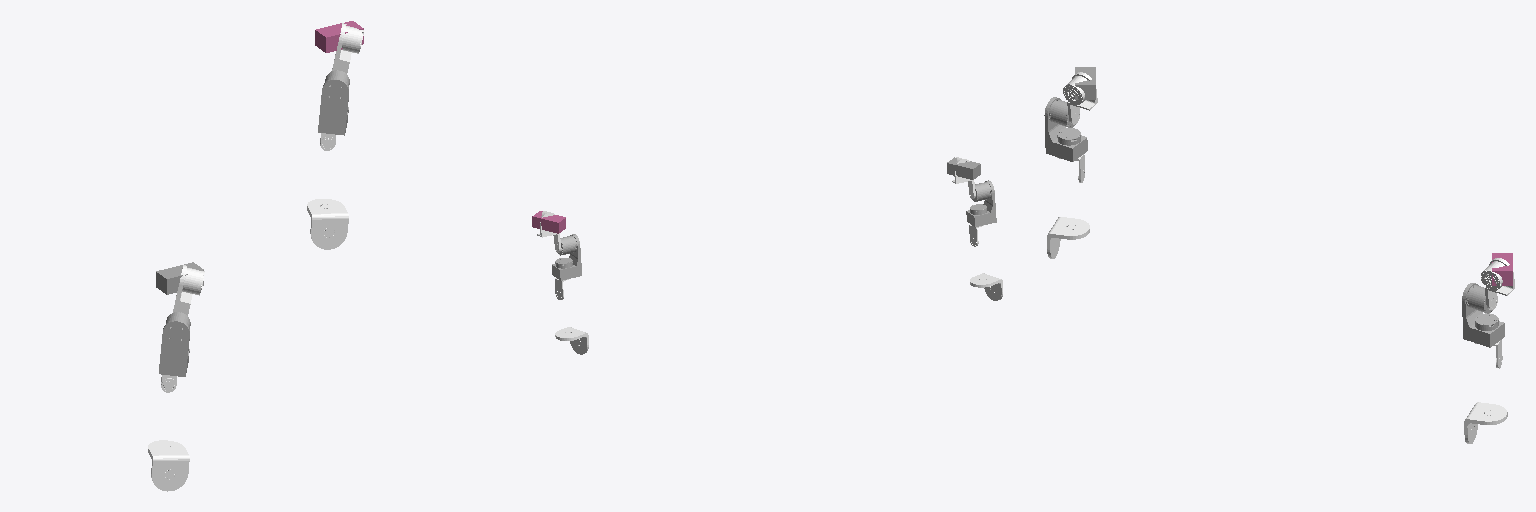
--- Facts derived from the render (not from the file) ---
Views: 3 orthographic renders of the robot side by side, from view 1: azimuth 30°, elevation 25°; view 2: azimuth 150°, elevation 25°; view 3: azimuth 270°, elevation 25°.
Robot: wanren_arm — 15 links, 14 joints (14 continuous); root link body; default pose: every joint at zero.
Links seen in each view (by area): view 1: leg_r2_link, leg_l2_link, leg_r5_link, leg_l5_link, leg_r6_link, leg_l6_link, leg_l7_link, leg_r7_link; view 2: leg_l5_link, leg_r5_link, leg_l2_link, leg_r2_link; view 3: leg_l5_link, leg_r5_link, leg_r2_link, leg_l2_link, leg_r6_link, leg_l6_link.
Link boxes in pixels (x1,y1,x2,y2): leg_r2_link: [148, 440, 189, 491]; leg_l2_link: [307, 199, 348, 249]; leg_r5_link: [159, 312, 190, 376]; leg_l5_link: [318, 70, 349, 135]; leg_r6_link: [173, 265, 204, 315]; leg_l6_link: [332, 23, 363, 73]; leg_l7_link: [315, 21, 363, 52]; leg_r7_link: [156, 262, 203, 294]; leg_l5_link: [552, 234, 581, 280]; leg_r5_link: [966, 180, 996, 226]; leg_l2_link: [555, 327, 588, 354]; leg_r2_link: [970, 273, 1002, 300]; leg_l5_link: [1462, 283, 1504, 347]; leg_r5_link: [1044, 97, 1087, 161]; leg_r2_link: [1047, 217, 1089, 258]; leg_l2_link: [1464, 402, 1507, 443]; leg_r6_link: [1063, 72, 1097, 124]; leg_l6_link: [1481, 258, 1514, 309].
Bounding box of the posed robot: 1.17 × 1.13 × 0.5471 m (x, y, z).
Meshes: 7 distinct files referenced, 8 mesh visuals loaded (4 binary STL); not drawn: 5 (reference not matched to a file when rendering).

The robot description file, URDF, robot "wanren_arm":
<?xml version="1.0" encoding="utf-8"?>
<!-- This URDF was automatically created by SolidWorks to URDF Exporter! Originally created by Stephen Brawner ([email redacted]) 
     Commit Version: 1.6.0-4-g7f85cfe  Build Version: 1.6.7995.38578
     For more information, please see http://wiki.ros.org/sw_urdf_exporter -->
<robot
  name="wanren_arm">
  <!-- Add a dummy link to handle inertia -->

  <link
    name="body">
    <inertial>
      <origin
        xyz="1.58624299813302E-05 2.01332320114156E-07 -0.0245724500252954"
        rpy="0 0 0" />
      <mass
        value="0.60016209200883" />
      <inertia
        ixx="0.00242953311427902"
        ixy="-5.25284926483854E-09"
        ixz="-1.0307989110718E-08"
        iyy="0.000676060412175399"
        iyz="-4.23866154122213E-09"
        izz="0.00270966081437587" />
    </inertial>
    <visual>
      <origin
        xyz="0 0 0"
        rpy="0 0 0" />
      <geometry>
        <mesh
          filename="package://wanren_arm/meshes/body.STL" />
      </geometry>
      <material
        name="">
        <color
          rgba="1 1 1 1" />
      </material>
    </visual>
    <collision>
      <origin
        xyz="0 0 0"
        rpy="0 0 0" />
      <geometry>
        <mesh
          filename="package://wanren_arm/meshes/body.STL" />
      </geometry>
    </collision>
  </link>
  <link
    name="leg_r1_link">
    <inertial>
      <origin
        xyz="-0.00382422792815949 -0.0123142355221975 0.0766747228132015"
        rpy="0 0 0" />
      <mass
        value="0.292899916417866" />
      <inertia
        ixx="0.000252199489311626"
        ixy="1.84502350325129E-05"
        ixz="3.06532558789357E-06"
        iyy="0.000305653266020346"
        iyz="9.64612915614931E-06"
        izz="0.000181236852257132" />
    </inertial>
    <visual>
      <origin
        xyz="0 0 0"
        rpy="0 0 0" />
      <geometry>
        <mesh
          filename="package://wanren_arm/meshes/leg_r1.STL" />
      </geometry>
      <material
        name="">
        <color
          rgba="1 1 1 1" />
      </material>
    </visual>
    <collision>
      <origin
        xyz="0 0 0"
        rpy="0 0 0" />
      <geometry>
        <mesh
          filename="package://wanren_arm/meshes/leg_r1.STL" />
      </geometry>
    </collision>
  </link>
  <joint
    name="leg_r1_joint"
    type="continuous">
    <origin
      xyz="0 0 0.011999999999999"
      rpy="0 0 0" />
    <parent
      link="body" />
    <child
      link="leg_r1_link" />
    <axis
      xyz="0 0 -1" />
  </joint>
  <link
    name="leg_r2_link">
    <inertial>
      <origin
        xyz="0.0284932164900757 0.0852314382000906 0.0233442478183801"
        rpy="0 0 0" />
      <mass
        value="0.118782011304387" />
      <inertia
        ixx="0.000148335029284927"
        ixy="-8.65175116738488E-06"
        ixz="-1.27967801985177E-05"
        iyy="0.000134918605784322"
        iyz="-4.16906433393106E-05"
        izz="0.000154509301437256" />
    </inertial>
    <visual>
      <origin
        xyz="0 0 0"
        rpy="0 0 0" />
      <geometry>
        <mesh
          filename="package://wanren_arm/meshes/leg_r2.STL" />
      </geometry>
      <material
        name="">
        <color
          rgba="1 1 1 1" />
      </material>
    </visual>
    <collision>
      <origin
        xyz="0 0 0"
        rpy="0 0 0" />
      <geometry>
        <mesh
          filename="package://wanren_arm/meshes/leg_r2.STL" />
      </geometry>
    </collision>
  </link>
  <joint
    name="leg_r2_joint"
    type="continuous">
    <origin
      xyz="-0.0136812977041495 -0.0436944371355362 0.0808116620061236"
      rpy="0 0 0" />
    <parent
      link="leg_r1_link" />
    <child
      link="leg_r2_link" />
    <axis
      xyz="0.29752487908452 0.954714065218347 0" />
  </joint>
  <link
    name="leg_r3_link">
    <inertial>
      <origin
        xyz="0.00440804925886197 -0.000927955750798931 0.0105438054247052"
        rpy="0 0 0" />
      <mass
        value="0.395227613542105" />
      <inertia
        ixx="0.000308890320718613"
        ixy="-5.97376048863321E-06"
        ixz="-4.28271122717806E-07"
        iyy="0.000290511069752979"
        iyz="-7.01321630599807E-06"
        izz="0.000217174460223541" />
    </inertial>
    <visual>
      <origin
        xyz="0 0 0"
        rpy="0 0 0" />
      <geometry>
        <mesh
          filename="package://wanren_arm/meshes/leg_r3.STL" />
      </geometry>
      <material
        name="">
        <color
          rgba="0.752941176470588 0.752941176470588 0.752941176470588 1" />
      </material>
    </visual>
    <collision>
      <origin
        xyz="0 0 0"
        rpy="0 0 0" />
      <geometry>
        <mesh
          filename="package://wanren_arm/meshes/leg_r3.STL" />
      </geometry>
    </collision>
  </link>
  <joint
    name="leg_r3_joint"
    type="continuous">
    <origin
      xyz="0.0412068272569313 0.104588881771451 0.106228185949221"
      rpy="0 0 0" />
    <parent
      link="leg_r2_link" />
    <child
      link="leg_r3_link" />
    <axis
      xyz="-0.0722349306802614 0.022511126419206 -0.997133573788866" />
  </joint>
  <link
    name="leg_r4_link">
    <inertial>
      <origin
        xyz="0.0155060558890136 0.0411774297341984 0.0346709586399187"
        rpy="0 0 0" />
      <mass
        value="0.0222841339329651" />
      <inertia
        ixx="1.84809601603307E-05"
        ixy="-7.49503824125524E-07"
        ixz="7.29303214418526E-07"
        iyy="1.42244264185631E-05"
        iyz="5.6744596945616E-06"
        izz="8.89285098125665E-06" />
    </inertial>
    <visual>
      <origin
        xyz="0 0 0"
        rpy="0 0 0" />
      <geometry>
        <mesh
          filename="package://wanren_arm/meshes/leg_r4.STL" />
      </geometry>
      <material
        name="">
        <color
          rgba="1 1 1 1" />
      </material>
    </visual>
    <collision>
      <origin
        xyz="0 0 0"
        rpy="0 0 0" />
      <geometry>
        <mesh
          filename="package://wanren_arm/meshes/leg_r4.STL" />
      </geometry>
    </collision>
  </link>
  <joint
    name="leg_r4_joint"
    type="continuous">
    <origin
      xyz="-0.00228042956033238 -0.0297792321778995 0.0833604475054363"
      rpy="0 0 0" />
    <parent
      link="leg_r3_link" />
    <child
      link="leg_r4_link" />
    <axis
      xyz="0.282983296167026 0.959124144572578 0.0011529910516605" />
  </joint>
  <link
    name="leg_r5_link">
    <inertial>
      <origin
        xyz="-0.0048559147531092 -0.0119363039004067 -0.00678188706287566"
        rpy="0 0 0" />
      <mass
        value="0.38824624930896" />
      <inertia
        ixx="0.000237526648339387"
        ixy="-5.31429070295641E-05"
        ixz="2.19325891659962E-05"
        iyy="0.000363875907133575"
        iyz="1.18765086359219E-05"
        izz="0.000378463701930693" />
    </inertial>
    <visual>
      <origin
        xyz="0 0 0"
        rpy="0 0 0" />
      <geometry>
        <mesh
          filename="package://wanren_arm/meshes/leg_r5.STL" />
      </geometry>
      <material
        name="">
        <color
          rgba="0.752941176470588 0.752941176470588 0.752941176470588 1" />
      </material>
    </visual>
    <collision>
      <origin
        xyz="0 0 0"
        rpy="0 0 0" />
      <geometry>
        <mesh
          filename="package://wanren_arm/meshes/leg_r5.STL" />
      </geometry>
    </collision>
  </link>
  <joint
    name="leg_r5_joint"
    type="continuous">
    <origin
      xyz="0.0181511434262854 0.025007599076044 0.111134888878763"
      rpy="0 1.26722046551249 0" />
    <parent
      link="leg_r4_link" />
    <child
      link="leg_r5_link" />
    <axis
      xyz="0.923719785557326 0.0273056458564005 -0.382094437900229" />
  </joint>
  <link
    name="leg_r6_link">
    <inertial>
      <origin
        xyz="0.0651691107467127 0.0806102275858783 -0.0545046281847596"
        rpy="0 0 0" />
      <mass
        value="0.174871084341935" />
      <inertia
        ixx="0.000144391761957596"
        ixy="-1.80182197600083E-05"
        ixz="1.3262109156489E-05"
        iyy="7.06944905975503E-05"
        iyz="1.59148040690902E-05"
        izz="0.000136401918690474" />
    </inertial>
    <visual>
      <origin
        xyz="0 0 0"
        rpy="0 0 0" />
      <geometry>
        <mesh
          filename="package://wanren_arm/meshes/leg_r6.STL" />
      </geometry>
      <material
        name="">
        <color
          rgba="1 1 1 1" />
      </material>
    </visual>
    <collision>
      <origin
        xyz="0 0 0"
        rpy="0 0 0" />
      <geometry>
        <mesh
          filename="package://wanren_arm/meshes/leg_r6.STL" />
      </geometry>
    </collision>
  </link>
  <joint
    name="leg_r6_joint"
    type="continuous">
    <origin
      xyz="-0.0550712045826083 -0.0332459772838745 -0.000878918231283499"
      rpy="1.5372364468678 -1.26722046551249 0" />
    <parent
      link="leg_r5_link" />
    <child
      link="leg_r6_link" />
    <axis
      xyz="0.565655964466871 0 -0.824641334073823" />
  </joint>
  <link
    name="leg_r7_link">
    <inertial>
      <origin
        xyz="0.122014637753753 -0.108460665221082 -0.0505526819127103"
        rpy="0 0 0" />
      <mass
        value="0.784412251530751" />
      <inertia
        ixx="0.00035684591190941"
        ixy="5.28938521033195E-05"
        ixz="1.61063033449861E-05"
        iyy="0.000393694186319801"
        iyz="-3.02303341596539E-06"
        izz="0.000403461621026228" />
    </inertial>
    <visual>
      <origin xyz="0 0 0" rpy="0 0 0"/>
  	<geometry>
    	<box size="0.1 0.05 0.04"/>
  	</geometry>
    </visual>
    <collision>
  	<origin xyz="0 0 0" rpy="0 0 0"/>
  	<geometry>
    	<box size="0.1 0.05 0.04"/>
  	</geometry>
    </collision>
  </link>
  <joint
    name="leg_r7_joint"
    type="continuous">
    <origin
      xyz="0.0506954674848457 0.0975609362242854 -0.0679978120533321"
      rpy="-1.5372364468678 0 0" />
    <parent
      link="leg_r6_link" />
    <child
      link="leg_r7_link" />
    <axis
      xyz="0.804819794366103 -0.559061164385712 -0.199288015375224" />
  </joint>

  <transmission name="trans_leg_r1">
  <type>transmission_interface/SimpleTransmission</type>
  <actuator name="motor_leg_r1">
    <hardwareInterface>hardware_interface/EffortJointInterface</hardwareInterface>
    <mechanicalReduction>1</mechanicalReduction>
  </actuator>
  <joint name="leg_r1_joint">
    <hardwareInterface>hardware_interface/EffortJointInterface</hardwareInterface>
  </joint>
  </transmission>

  <transmission name="trans_leg_r2">
  <type>transmission_interface/SimpleTransmission</type>
  <actuator name="motor_leg_r2">
    <hardwareInterface>hardware_interface/EffortJointInterface</hardwareInterface>
    <mechanicalReduction>1</mechanicalReduction>
  </actuator>
  <joint name="leg_r2_joint">
    <hardwareInterface>hardware_interface/EffortJointInterface</hardwareInterface>
  </joint>
  </transmission>

  <transmission name="trans_leg_r3">
  <type>transmission_interface/SimpleTransmission</type>
  <actuator name="motor_leg_r3">
    <hardwareInterface>hardware_interface/EffortJointInterface</hardwareInterface>
    <mechanicalReduction>1</mechanicalReduction>
  </actuator>
  <joint name="leg_r3_joint">
    <hardwareInterface>hardware_interface/EffortJointInterface</hardwareInterface>
  </joint>
  </transmission>

  <transmission name="trans_leg_r4">
  <type>transmission_interface/SimpleTransmission</type>
  <actuator name="motor_leg_r4">
    <hardwareInterface>hardware_interface/EffortJointInterface</hardwareInterface>
    <mechanicalReduction>1</mechanicalReduction>
  </actuator>
  <joint name="leg_r4_joint">
    <hardwareInterface>hardware_interface/EffortJointInterface</hardwareInterface>
  </joint>
  </transmission>

  <transmission name="trans_leg_r5">
  <type>transmission_interface/SimpleTransmission</type>
  <actuator name="motor_leg_r5">
    <hardwareInterface>hardware_interface/EffortJointInterface</hardwareInterface>
    <mechanicalReduction>1</mechanicalReduction>
  </actuator>
  <joint name="leg_r5_joint">
    <hardwareInterface>hardware_interface/EffortJointInterface</hardwareInterface>
  </joint>
  </transmission>

  <transmission name="trans_leg_r6">
  <type>transmission_interface/SimpleTransmission</type>
  <actuator name="motor_leg_r6">
    <hardwareInterface>hardware_interface/EffortJointInterface</hardwareInterface>
    <mechanicalReduction>1</mechanicalReduction>
  </actuator>
  <joint name="leg_r6_joint">
    <hardwareInterface>hardware_interface/EffortJointInterface</hardwareInterface>
  </joint>
  </transmission>

  <transmission name="trans_leg_r7">
  <type>transmission_interface/SimpleTransmission</type>
  <actuator name="motor_leg_r7">
    <hardwareInterface>hardware_interface/EffortJointInterface</hardwareInterface>
    <mechanicalReduction>1</mechanicalReduction>
  </actuator>
  <joint name="leg_r7_joint">
    <hardwareInterface>hardware_interface/EffortJointInterface</hardwareInterface>
  </joint>
  </transmission>
  <link
    name="leg_l1_link">
    <inertial>
      <origin
        xyz="-0.00382422792815949 -0.0123142355221975 0.0766747228132015"
        rpy="0 0 0" />
      <mass
        value="0.292899916417866" />
      <inertia
        ixx="0.000252199489311626"
        ixy="1.84502350325129E-05"
        ixz="3.06532558789357E-06"
        iyy="0.000305653266020346"
        iyz="9.64612915614931E-06"
        izz="0.000181236852257132" />
    </inertial>
    <visual>
      <origin
        xyz="0 0 0"
        rpy="0 0 0" />
      <geometry>
        <mesh
          filename="package://wanren_arm/meshes/leg_r1.STL" />
      </geometry>
      <material
        name="">
        <color
          rgba="1 1 1 1" />
      </material>
    </visual>
    <collision>
      <origin
        xyz="0 0 0"
        rpy="0 0 0" />
      <geometry>
        <mesh
          filename="package://wanren_arm/meshes/leg_r1.STL" />
      </geometry>
    </collision>
  </link>
  <joint
    name="leg_l1_joint"
    type="continuous">
    <origin
      xyz="1 1 -0.011999999999999"
      rpy="0 0 0" />
    <parent
      link="body" />
    <child
      link="leg_l1_link" />
    <axis
      xyz="0 0 -1" />
  </joint>
  <link
    name="leg_l2_link">
    <inertial>
      <origin
        xyz="0.0284932164900757 0.0852314382000906 0.0233442478183801"
        rpy="0 0 0" />
      <mass
        value="0.118782011304387" />
      <inertia
        ixx="0.000148335029284927"
        ixy="-8.65175116738488E-06"
        ixz="-1.27967801985177E-05"
        iyy="0.000134918605784322"
        iyz="-4.16906433393106E-05"
        izz="0.000154509301437256" />
    </inertial>
    <visual>
      <origin
        xyz="0 0 0"
        rpy="0 0 0" />
      <geometry>
        <mesh
          filename="package://wanren_arm/meshes/leg_r2.STL" />
      </geometry>
      <material
        name="">
        <color
          rgba="1 1 1 1" />
      </material>
    </visual>
    <collision>
      <origin
        xyz="0 0 0"
        rpy="0 0 0" />
      <geometry>
        <mesh
          filename="package://wanren_arm/meshes/leg_r2.STL" />
      </geometry>
    </collision>
  </link>
  <joint
    name="leg_l2_joint"
    type="continuous">
    <origin
      xyz="-0.0136812977041495 -0.0436944371355362 0.0808116620061236"
      rpy="0 0 0" />
    <parent
      link="leg_l1_link" />
    <child
      link="leg_l2_link" />
    <axis
      xyz="0.29752487908452 0.954714065218347 0" />
  </joint>
  <link
    name="leg_l3_link">
    <inertial>
      <origin
        xyz="0.00440804925886197 -0.000927955750798931 0.0105438054247052"
        rpy="0 0 0" />
      <mass
        value="0.395227613542105" />
      <inertia
        ixx="0.000308890320718613"
        ixy="-5.97376048863321E-06"
        ixz="-4.28271122717806E-07"
        iyy="0.000290511069752979"
        iyz="-7.01321630599807E-06"
        izz="0.000217174460223541" />
    </inertial>
    <visual>
      <origin
        xyz="0 0 0"
        rpy="0 0 0" />
      <geometry>
        <mesh
          filename="package://wanren_arm/meshes/leg_r3.STL" />
      </geometry>
      <material
        name="">
        <color
          rgba="0.752941176470588 0.752941176470588 0.752941176470588 1" />
      </material>
    </visual>
    <collision>
      <origin
        xyz="0 0 0"
        rpy="0 0 0" />
      <geometry>
        <mesh
          filename="package://wanren_arm/meshes/leg_r3.STL" />
      </geometry>
    </collision>
  </link>
  <joint
    name="leg_l3_joint"
    type="continuous">
    <origin
      xyz="0.0412068272569313 0.104588881771451 0.106228185949221"
      rpy="0 0 0" />
    <parent
      link="leg_l2_link" />
    <child
      link="leg_l3_link" />
    <axis
      xyz="-0.0722349306802614 0.022511126419206 -0.997133573788866" />
  </joint>
  <link
    name="leg_l4_link">
    <inertial>
      <origin
        xyz="0.0155060558890136 0.0411774297341984 0.0346709586399187"
        rpy="0 0 0" />
      <mass
        value="0.0222841339329651" />
      <inertia
        ixx="1.84809601603307E-05"
        ixy="-7.49503824125524E-07"
        ixz="7.29303214418526E-07"
        iyy="1.42244264185631E-05"
        iyz="5.6744596945616E-06"
        izz="8.89285098125665E-06" />
    </inertial>
    <visual>
      <origin
        xyz="0 0 0"
        rpy="0 0 0" />
      <geometry>
        <mesh
          filename="package://wanren_arm/meshes/leg_r4.STL" />
      </geometry>
      <material
        name="">
        <color
          rgba="1 1 1 1" />
      </material>
    </visual>
    <collision>
      <origin
        xyz="0 0 0"
        rpy="0 0 0" />
      <geometry>
        <mesh
          filename="package://wanren_arm/meshes/leg_r4.STL" />
      </geometry>
    </collision>
  </link>
  <joint
    name="leg_l4_joint"
    type="continuous">
    <origin
      xyz="-0.00228042956033238 -0.0297792321778995 0.0833604475054363"
      rpy="0 0 0" />
    <parent
      link="leg_l3_link" />
    <child
      link="leg_l4_link" />
    <axis
      xyz="0.282983296167026 0.959124144572578 0.0011529910516605" />
  </joint>
  <link
    name="leg_l5_link">
    <inertial>
      <origin
        xyz="-0.0048559147531092 -0.0119363039004067 -0.00678188706287566"
        rpy="0 0 0" />
      <mass
        value="0.38824624930896" />
      <inertia
        ixx="0.000237526648339387"
        ixy="-5.31429070295641E-05"
        ixz="2.19325891659962E-05"
        iyy="0.000363875907133575"
        iyz="1.18765086359219E-05"
        izz="0.000378463701930693" />
    </inertial>
    <visual>
      <origin
        xyz="0 0 0"
        rpy="0 0 0" />
      <geometry>
        <mesh
          filename="package://wanren_arm/meshes/leg_r5.STL" />
      </geometry>
      <material
        name="">
        <color
          rgba="0.752941176470588 0.752941176470588 0.752941176470588 1" />
      </material>
    </visual>
    <collision>
      <origin
        xyz="0 0 0"
        rpy="0 0 0" />
      <geometry>
        <mesh
          filename="package://wanren_arm/meshes/leg_r5.STL" />
      </geometry>
    </collision>
  </link>
  <joint
    name="leg_l5_joint"
    type="continuous">
    <origin
      xyz="0.0181511434262854 0.025007599076044 0.111134888878763"
      rpy="0 1.26722046551249 0" />
    <parent
      link="leg_l4_link" />
    <child
      link="leg_l5_link" />
    <axis
      xyz="0.923719785557326 0.0273056458564005 -0.382094437900229" />
  </joint>
  <link
    name="leg_l6_link">
    <inertial>
      <origin
        xyz="0.0651691107467127 0.0806102275858783 -0.0545046281847596"
        rpy="0 0 0" />
      <mass
        value="0.174871084341935" />
      <inertia
        ixx="0.000144391761957596"
        ixy="-1.80182197600083E-05"
        ixz="1.3262109156489E-05"
        iyy="7.06944905975503E-05"
        iyz="1.59148040690902E-05"
        izz="0.000136401918690474" />
    </inertial>
    <visual>
      <origin
        xyz="0 0 0"
        rpy="0 0 0" />
      <geometry>
        <mesh
          filename="package://wanren_arm/meshes/leg_r6.STL" />
      </geometry>
      <material
        name="">
        <color
          rgba="1 1 1 1" />
      </material>
    </visual>
    <collision>
      <origin
        xyz="0 0 0"
        rpy="0 0 0" />
      <geometry>
        <mesh
          filename="package://wanren_arm/meshes/leg_r6.STL" />
      </geometry>
    </collision>
  </link>
  <joint
    name="leg_l6_joint"
    type="continuous">
    <origin
      xyz="-0.0550712045826083 -0.0332459772838745 -0.000878918231283499"
      rpy="1.5372364468678 -1.26722046551249 0" />
    <parent
      link="leg_l5_link" />
    <child
      link="leg_l6_link" />
    <axis
      xyz="0.565655964466871 0 -0.824641334073823" />
  </joint>
  <link
    name="leg_l7_link">
    <inertial>
      <origin
        xyz="0.122014637753753 -0.108460665221082 -0.0505526819127103"
        rpy="0 0 0" />
      <mass
        value="0.784412251530751" />
      <inertia
        ixx="0.00035684591190941"
        ixy="5.28938521033195E-05"
        ixz="1.61063033449861E-05"
        iyy="0.000393694186319801"
        iyz="-3.02303341596539E-06"
        izz="0.000403461621026228" />
    </inertial>
    <visual>
      <origin xyz="0 0 0" rpy="0 0 0"/>
  	<geometry>
    	<box size="0.1 0.05 0.04"/>
  	</geometry>
    </visual>
    <collision>
  	<origin xyz="0 0 0" rpy="0 0 0"/>
  	<geometry>
    	<box size="0.1 0.05 0.04"/>
  	</geometry>
    </collision>
  </link>
  <joint
    name="leg_l7_joint"
    type="continuous">
    <origin
      xyz="0.0506954674848457 0.0975609362242854 -0.0679978120533321"
      rpy="-1.5372364468678 0 0" />
    <parent
      link="leg_l6_link" />
    <child
      link="leg_l7_link" />
    <axis
      xyz="0.804819794366103 -0.559061164385712 -0.199288015375224" />
  </joint>

  <transmission name="trans_leg_l1">
  <type>transmission_interface/SimpleTransmission</type>
  <actuator name="motor_leg_l1">
    <hardwareInterface>hardware_interface/EffortJointInterface</hardwareInterface>
    <mechanicalReduction>1</mechanicalReduction>
  </actuator>
  <joint name="leg_l1_joint">
    <hardwareInterface>hardware_interface/EffortJointInterface</hardwareInterface>
  </joint>
  </transmission>

  <transmission name="trans_leg_l2">
  <type>transmission_interface/SimpleTransmission</type>
  <actuator name="motor_leg_l2">
    <hardwareInterface>hardware_interface/EffortJointInterface</hardwareInterface>
    <mechanicalReduction>1</mechanicalReduction>
  </actuator>
  <joint name="leg_l2_joint">
    <hardwareInterface>hardware_interface/EffortJointInterface</hardwareInterface>
  </joint>
  </transmission>

  <transmission name="trans_leg_l3">
  <type>transmission_interface/SimpleTransmission</type>
  <actuator name="motor_leg_l3">
    <hardwareInterface>hardware_interface/EffortJointInterface</hardwareInterface>
    <mechanicalReduction>1</mechanicalReduction>
  </actuator>
  <joint name="leg_l3_joint">
    <hardwareInterface>hardware_interface/EffortJointInterface</hardwareInterface>
  </joint>
  </transmission>

  <transmission name="trans_leg_l4">
  <type>transmission_interface/SimpleTransmission</type>
  <actuator name="motor_leg_l4">
    <hardwareInterface>hardware_interface/EffortJointInterface</hardwareInterface>
    <mechanicalReduction>1</mechanicalReduction>
  </actuator>
  <joint name="leg_l4_joint">
    <hardwareInterface>hardware_interface/EffortJointInterface</hardwareInterface>
  </joint>
  </transmission>

  <transmission name="trans_leg_l5">
  <type>transmission_interface/SimpleTransmission</type>
  <actuator name="motor_leg_l5">
    <hardwareInterface>hardware_interface/EffortJointInterface</hardwareInterface>
    <mechanicalReduction>1</mechanicalReduction>
  </actuator>
  <joint name="leg_l5_joint">
    <hardwareInterface>hardware_interface/EffortJointInterface</hardwareInterface>
  </joint>
  </transmission>

  <transmission name="trans_leg_l6">
  <type>transmission_interface/SimpleTransmission</type>
  <actuator name="motor_leg_l6">
    <hardwareInterface>hardware_interface/EffortJointInterface</hardwareInterface>
    <mechanicalReduction>1</mechanicalReduction>
  </actuator>
  <joint name="leg_l6_joint">
    <hardwareInterface>hardware_interface/EffortJointInterface</hardwareInterface>
  </joint>
  </transmission>

  <transmission name="trans_leg_l7">
  <type>transmission_interface/SimpleTransmission</type>
  <actuator name="motor_leg_l7">
    <hardwareInterface>hardware_interface/EffortJointInterface</hardwareInterface>
    <mechanicalReduction>1</mechanicalReduction>
  </actuator>
  <joint name="leg_l7_joint">
    <hardwareInterface>hardware_interface/EffortJointInterface</hardwareInterface>
  </joint>
  </transmission>

</robot>
